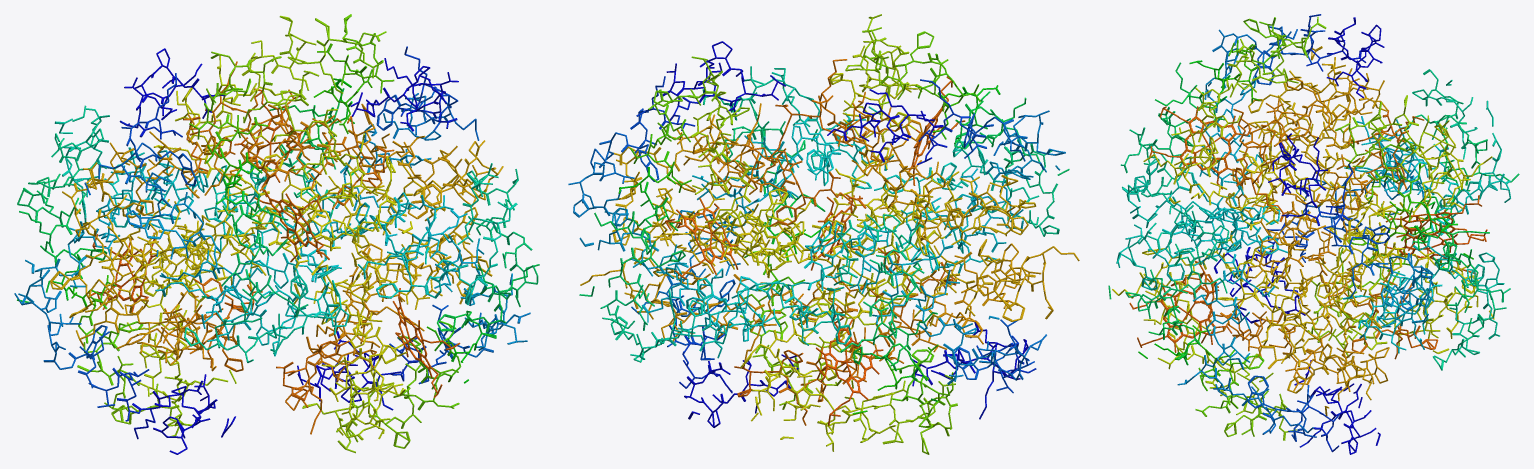
The model's file is 4hhb__lines__rainbow.glb.
The picture shows the model from 3 angles, left to right: view 1: azimuth 30°, elevation 25°; view 2: azimuth 150°, elevation 25°; view 3: azimuth 270°, elevation 25°; orthographic projection. The views are drawn at different scales.
Parts seen in each view (by area): view 1: Renderer Node; view 2: Renderer Node; view 3: Renderer Node.
Part boxes in pixels (x1,y1,x2,y2): Renderer Node: [14, 14, 539, 454]; Renderer Node: [568, 14, 1079, 454]; Renderer Node: [1108, 14, 1519, 454].
Size of the model in its own units: 65.55 by 57.14 by 57.46.
